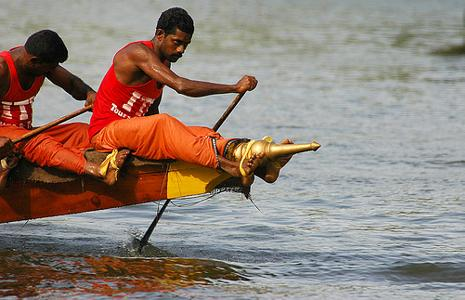person: (91, 7, 295, 189)
